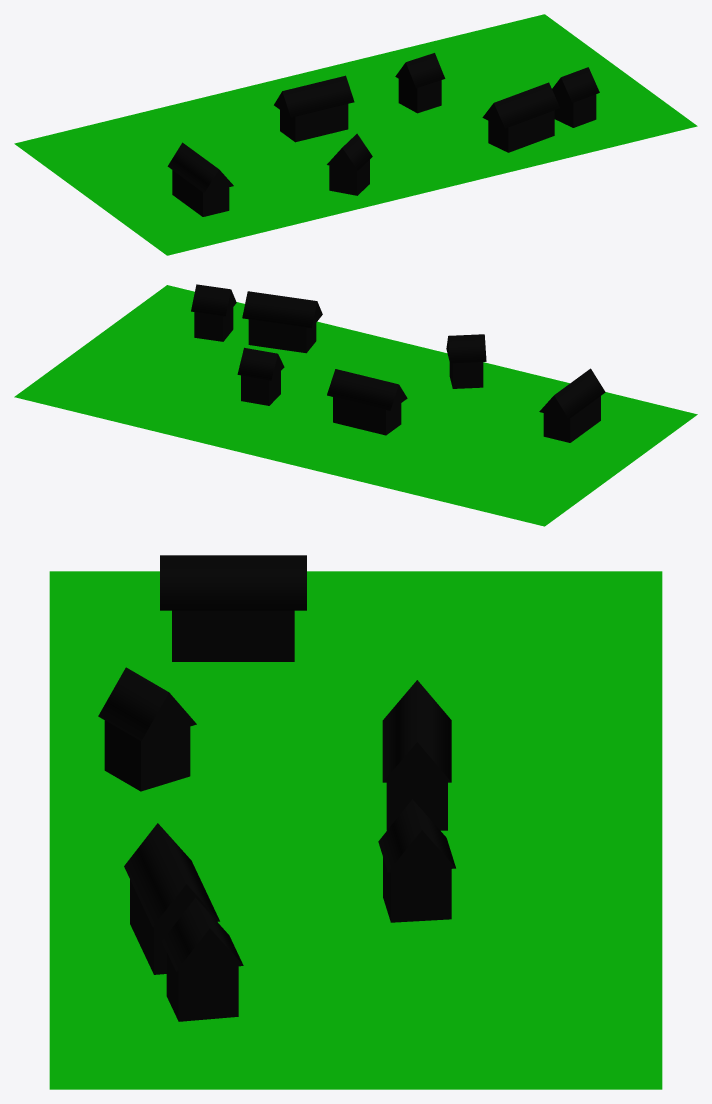
3 renders of one model, top to bottom at view 1: azimuth 30°, elevation 25°; view 2: azimuth 150°, elevation 25°; view 3: azimuth 270°, elevation 25°, orthographic. The views are drawn at different scales.
Visible parts, largest first — view 1: ground, box_merged (×2), house3, house1, house2, house0; view 2: ground, box_merged (×2), house3, house1, house2, house0; view 3: ground, house1, box_merged (×2), house0, house3, house2.
Part boxes in pixels (x1=…): ground: x1=14, y1=14, x2=697, y2=255; box_merged (×2): x1=482, y1=67, x2=599, y2=152; house3: x1=274, y1=75, x2=354, y2=142; house1: x1=167, y1=142, x2=233, y2=216; house2: x1=395, y1=53, x2=445, y2=113; house0: x1=327, y1=133, x2=372, y2=195; ground: x1=14, y1=285, x2=697, y2=526; box_merged (×2): x1=191, y1=284, x2=322, y2=353; house3: x1=327, y1=369, x2=407, y2=435; house1: x1=539, y1=368, x2=605, y2=442; house2: x1=237, y1=347, x2=284, y2=405; house0: x1=446, y1=334, x2=486, y2=388; ground: x1=49, y1=571, x2=662, y2=1089; house1: x1=160, y1=555, x2=306, y2=661; box_merged (×2): x1=124, y1=823, x2=243, y2=1021; house0: x1=98, y1=667, x2=196, y2=791; house3: x1=382, y1=680, x2=451, y2=830; house2: x1=378, y1=799, x2=455, y2=922.
Bounding box in the file's own units: 20 × 1.69 × 10.
Materials: 5 (4 with a texture image).
